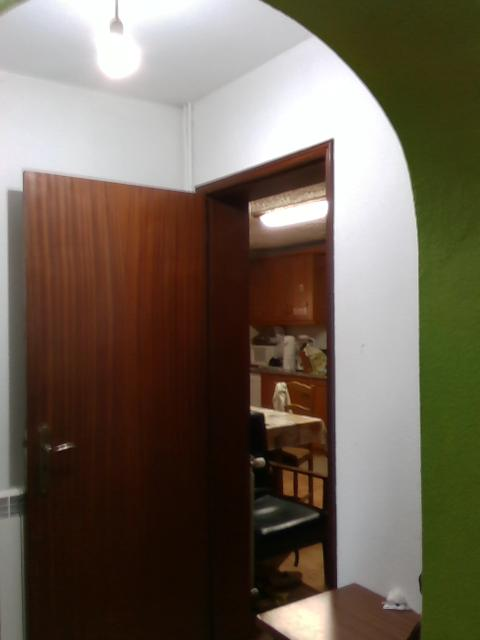open_door: (189, 137, 337, 639)
